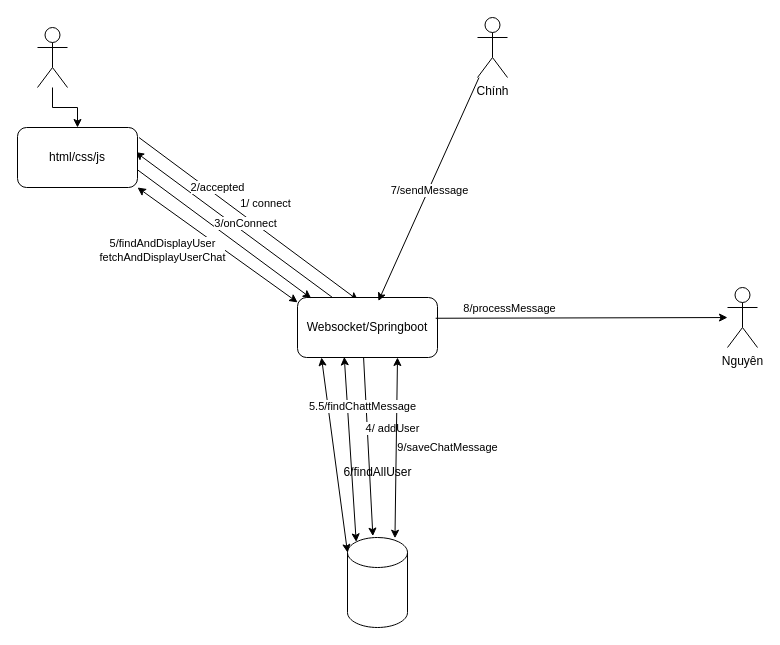
Some shapes in this 780 by 645 pixel diagram are drawn without their labels. The centre of each missing label's shape, as x and y in pixels:
"Actor" goes at (52,57).
"MongoDB" goes at (377,582).
